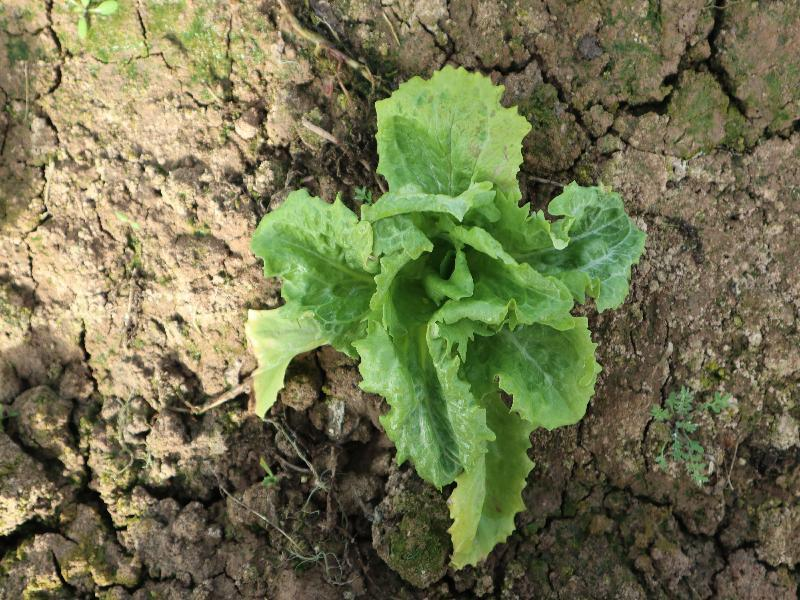lettuce: (244, 63, 648, 569)
